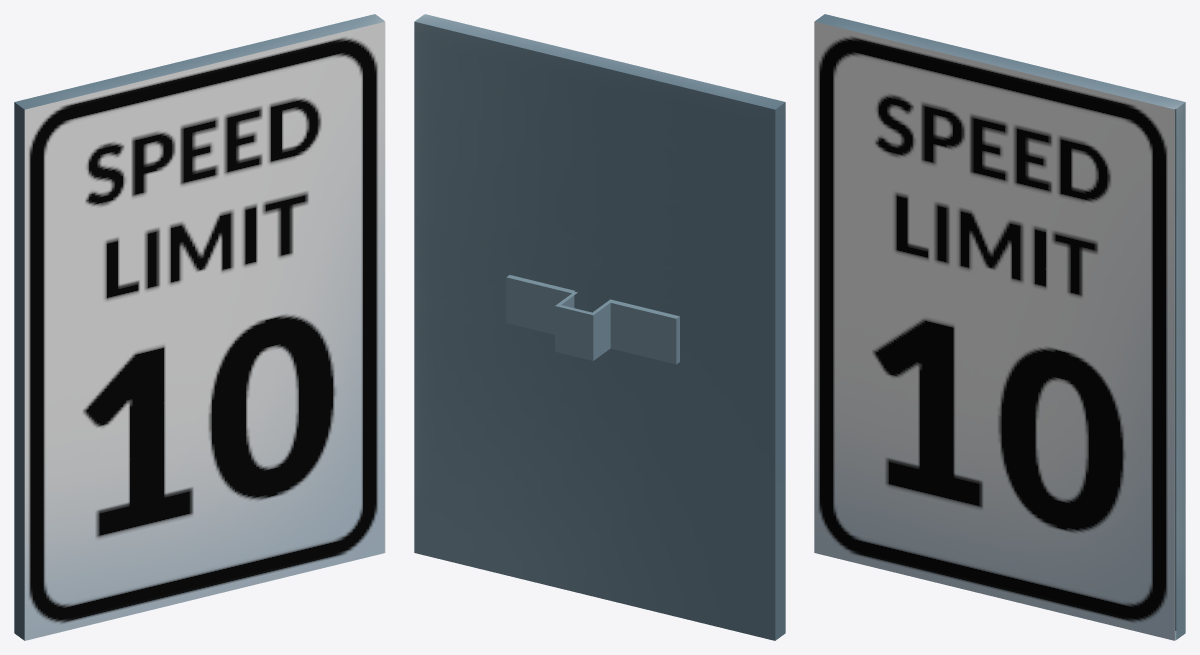
File: Sign32.fbx
3 renders of one model, left to right at view 1: azimuth 30°, elevation 25°; view 2: azimuth 150°, elevation 25°; view 3: azimuth 330°, elevation 25°, orthographic.
Parts seen in each view (by area): view 1: Sign32; view 2: Sign32; view 3: Sign32.
Part boxes in pixels (<box>): Sign32: <box>14,14,385,640</box>; Sign32: <box>414,14,785,640</box>; Sign32: <box>814,14,1185,640</box>.
Bounding box in the file's own units: 1 × 0.1489 × 1.41.
